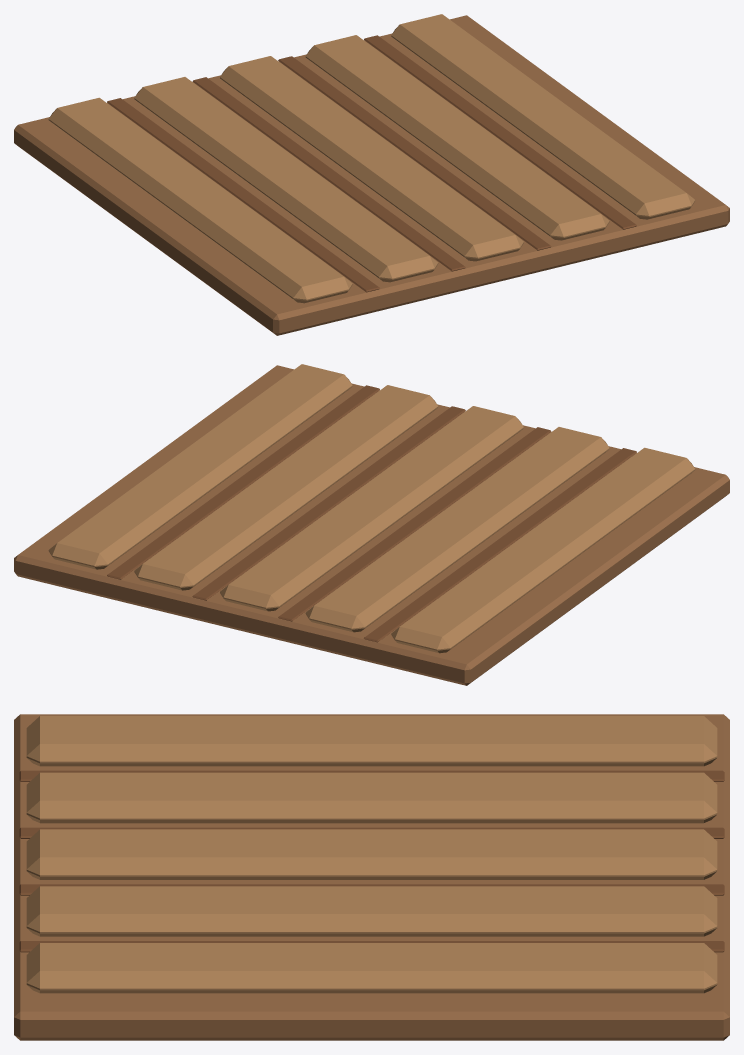
The model's file is FTF_Farm_Tile_4m.glb.
The picture shows the model from 3 angles, top to bottom: view 1: azimuth 30°, elevation 25°; view 2: azimuth 150°, elevation 25°; view 3: azimuth 270°, elevation 25°; orthographic projection. The views are drawn at different scales.
Parts seen in each view (by area): view 1: FarmTile_SoilBase, FarmTile_Ridge_02, FarmTile_Ridge_04, FarmTile_Ridge_01, FarmTile_Ridge_03, FarmTile_Ridge_05, FarmTile_Trench_04, FarmTile_Trench_01, FarmTile_Trench_02, FarmTile_Trench_03; view 2: FarmTile_SoilBase, FarmTile_Ridge_02, FarmTile_Ridge_04, FarmTile_Ridge_01, FarmTile_Ridge_03, FarmTile_Ridge_05, FarmTile_Trench_04, FarmTile_Trench_01, FarmTile_Trench_02, FarmTile_Trench_03; view 3: FarmTile_SoilBase, FarmTile_Ridge_02, FarmTile_Ridge_01, FarmTile_Ridge_04, FarmTile_Ridge_05, FarmTile_Ridge_03, FarmTile_Trench_01, FarmTile_Trench_02, FarmTile_Trench_03, FarmTile_Trench_04.
Part boxes in pixels (box(x1,y1,x2,y2)): FarmTile_SoilBase: box(14, 15, 729, 335); FarmTile_Ridge_02: box(134, 77, 438, 282); FarmTile_Ridge_04: box(305, 35, 609, 240); FarmTile_Ridge_01: box(48, 97, 352, 303); FarmTile_Ridge_03: box(220, 56, 523, 261); FarmTile_Ridge_05: box(391, 14, 695, 219); FarmTile_Trench_04: box(364, 35, 636, 229); FarmTile_Trench_01: box(107, 98, 379, 292); FarmTile_Trench_02: box(192, 77, 465, 271); FarmTile_Trench_03: box(278, 56, 551, 250); FarmTile_SoilBase: box(14, 365, 729, 685); FarmTile_Ridge_02: box(305, 427, 609, 632); FarmTile_Ridge_04: box(134, 385, 438, 590); FarmTile_Ridge_01: box(391, 447, 695, 653); FarmTile_Ridge_03: box(220, 406, 523, 611); FarmTile_Ridge_05: box(48, 364, 352, 569); FarmTile_Trench_04: box(107, 385, 379, 579); FarmTile_Trench_01: box(364, 448, 636, 642); FarmTile_Trench_02: box(278, 427, 551, 621); FarmTile_Trench_03: box(192, 406, 465, 600); FarmTile_SoilBase: box(14, 714, 729, 1040); FarmTile_Ridge_02: box(26, 772, 717, 823); FarmTile_Ridge_01: box(26, 716, 717, 766); FarmTile_Ridge_04: box(26, 886, 717, 936); FarmTile_Ridge_05: box(26, 943, 717, 993); FarmTile_Ridge_03: box(26, 829, 717, 879); FarmTile_Trench_01: box(19, 770, 724, 781); FarmTile_Trench_02: box(19, 827, 724, 838); FarmTile_Trench_03: box(19, 884, 724, 895); FarmTile_Trench_04: box(19, 941, 724, 952).
Bounding box in the file's own units: 4 × 0.3 × 4.
